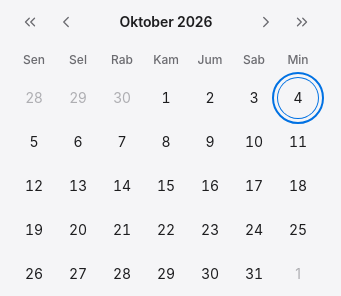
Calendar: navigation › a year jump past min clamps to the earliest allowed month
Click the button named "Tahun sebelumnya" at (30, 22), box [12,4,48,40]
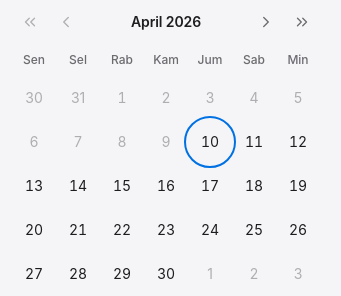
Now the heading "April 2026" is shown, box [131,12,201,32]
